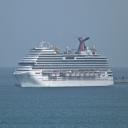cruises: (13, 36, 116, 90)
